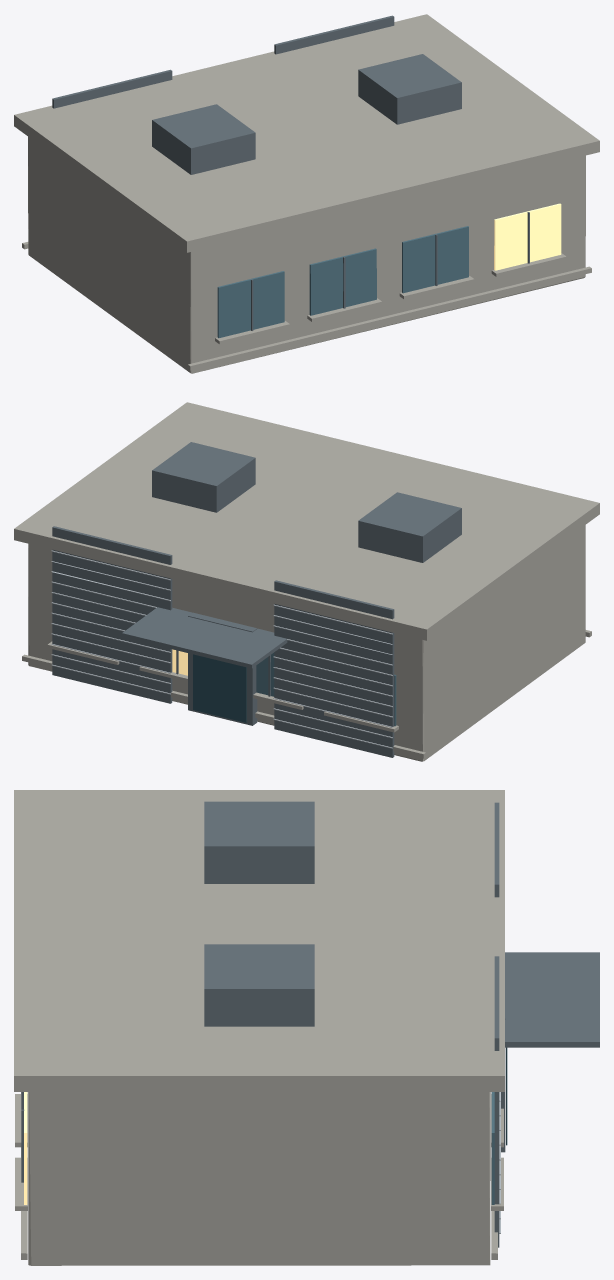
File: Storefront.fbx
3 renders of one model, top to bottom at view 1: azimuth 30°, elevation 25°; view 2: azimuth 150°, elevation 25°; view 3: azimuth 270°, elevation 25°, orthographic. The views are drawn at different scales.
Parts seen in each view (by area): view 1: Storefront_LOD; view 2: Storefront_LOD; view 3: Storefront_LOD.
Part boxes in pixels (<box>): Storefront_LOD: <box>14,14,599,373</box>; Storefront_LOD: <box>14,402,599,761</box>; Storefront_LOD: <box>14,790,599,1265</box>.
Size of the model in its own units: 14.58 by 5.58 by 12.63.
